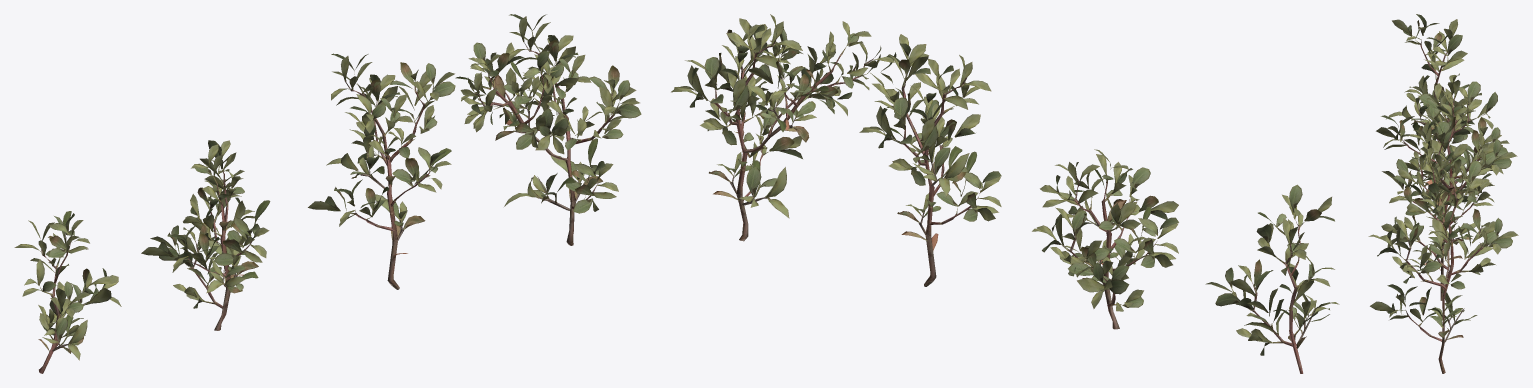
File: shrub_04.glb
3 renders of one model, left to right at view 1: azimuth 30°, elevation 25°; view 2: azimuth 150°, elevation 25°; view 3: azimuth 270°, elevation 25°, orthographic. The views are drawn at different scales.
Parts seen in each view (by area): view 1: shrub_04; view 2: shrub_04; view 3: shrub_04.
Boxes of the visible parts, bbox=[...] form: shrub_04: bbox=[14, 14, 641, 373]; shrub_04: bbox=[671, 14, 1339, 373]; shrub_04: bbox=[1368, 14, 1518, 373].
Bounding box in the file's own units: 0.5837 × 0.2192 × 0.1461.
1 material, 1 textured.
